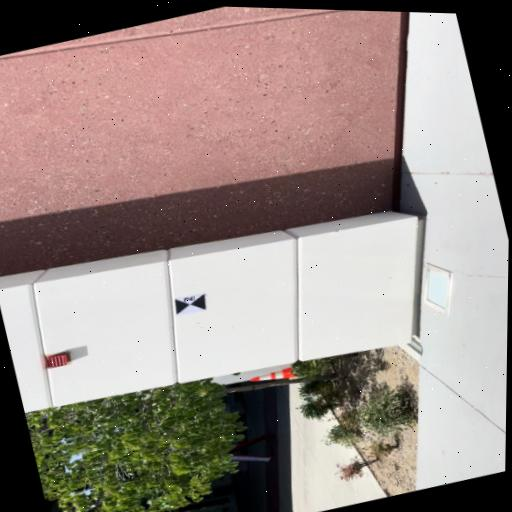target2: (174, 293, 205, 315)
